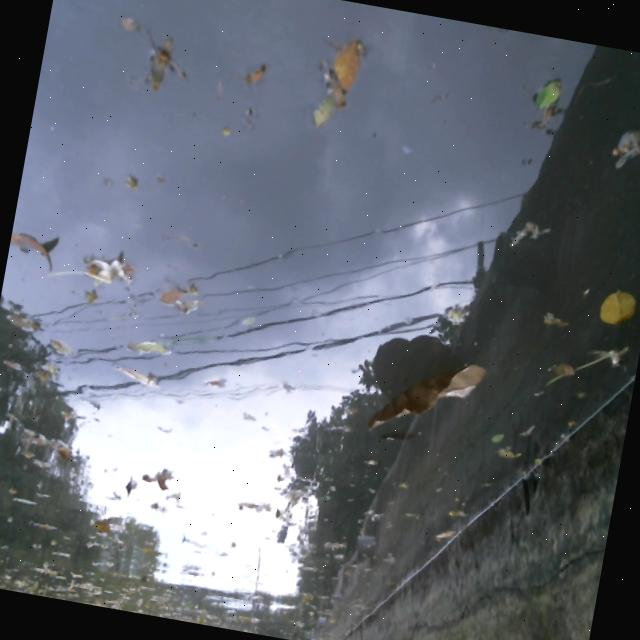Big-leaf: (361, 341, 488, 450)
Small-leaf: (80, 247, 141, 295), (139, 30, 180, 101), (590, 282, 640, 339), (5, 225, 60, 274), (327, 30, 367, 96), (527, 69, 572, 119), (107, 359, 162, 396), (122, 331, 177, 365), (603, 118, 640, 163), (371, 421, 419, 452), (135, 463, 175, 499), (308, 95, 336, 136), (233, 494, 277, 520), (240, 55, 271, 91), (542, 355, 581, 383), (39, 333, 75, 362), (428, 522, 464, 550), (152, 282, 186, 310), (534, 309, 570, 333), (490, 440, 523, 466), (50, 442, 83, 467), (88, 511, 115, 538), (443, 499, 473, 523), (515, 417, 542, 443), (200, 371, 227, 395), (29, 366, 56, 385), (5, 493, 38, 508), (487, 427, 506, 449)
